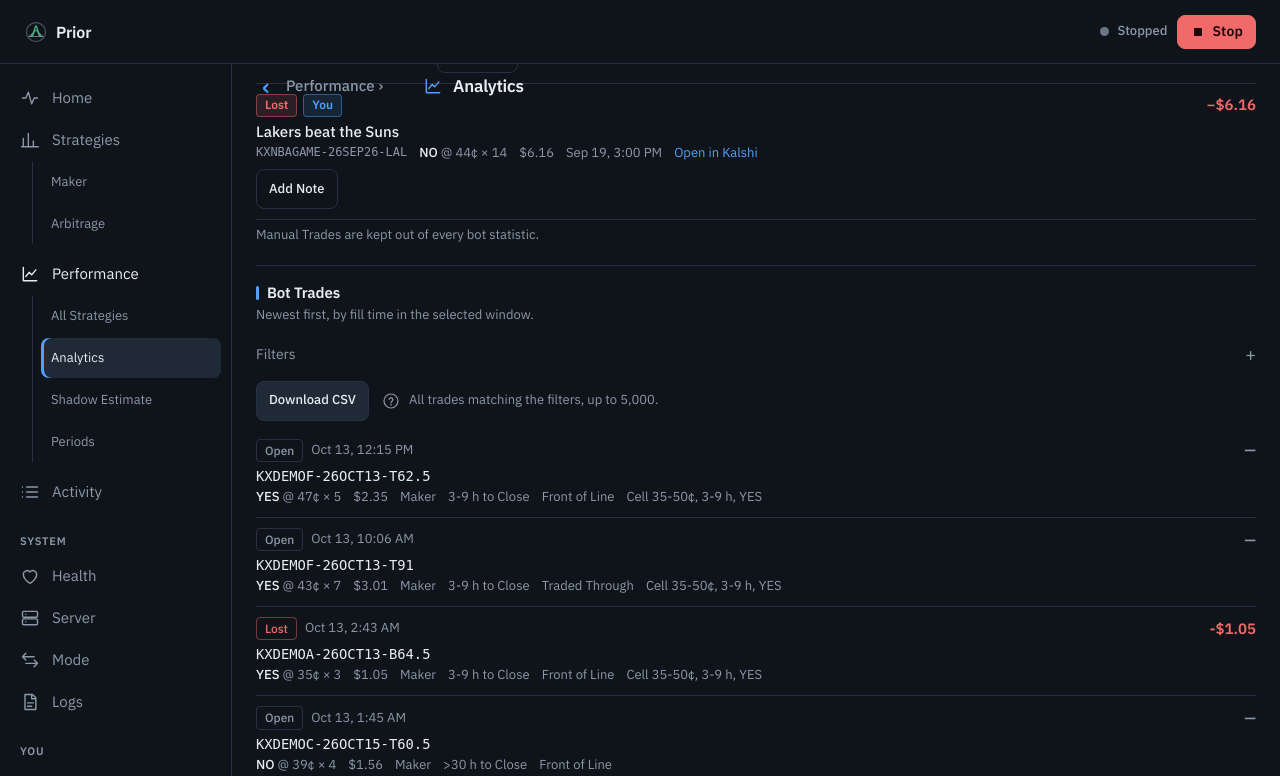
Test: CSV download (item 7) › 429 shows "Too many requests" with Retry-After and saves nothing
The width and height of the screenshot is (1280, 776).
(page scrolled)
Click the button "Download CSV": click(312, 401) [256,381,369,421]
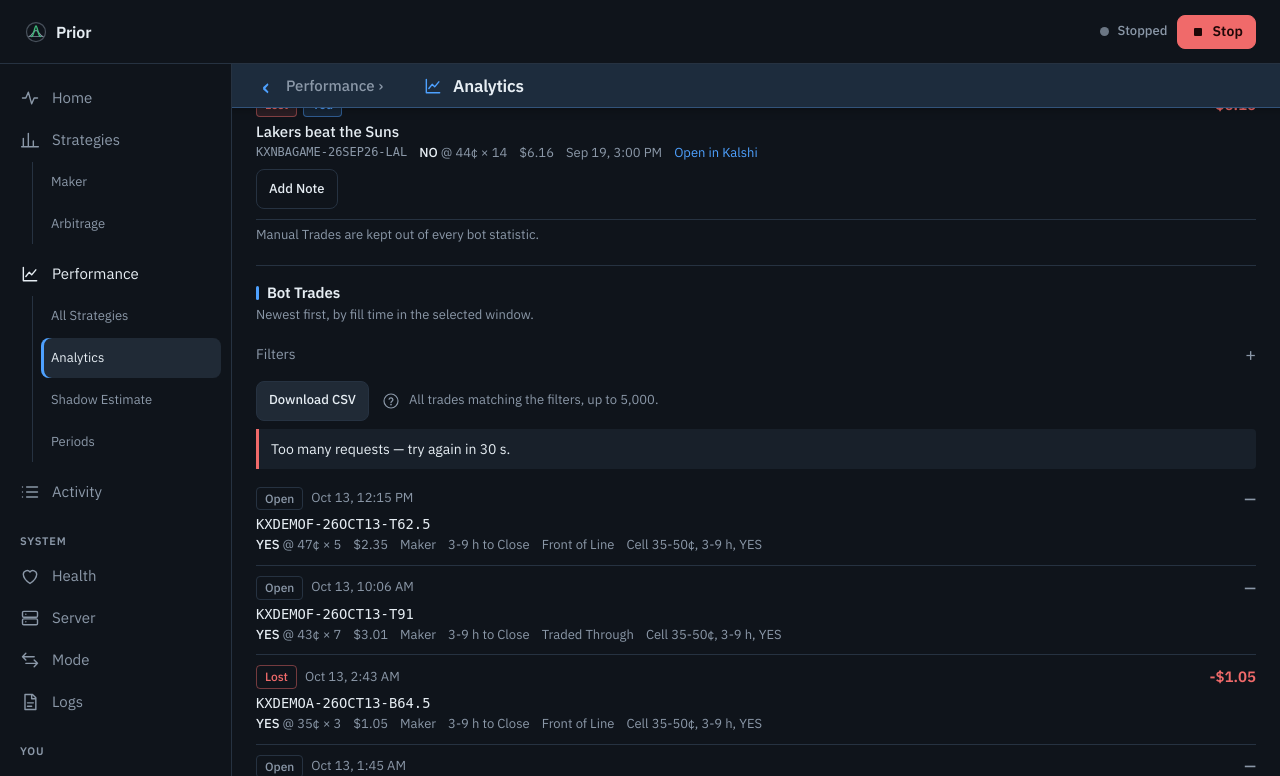
Expected: the text "Too many requests — try again in 30 s." is shown, [271,440,510,458]
